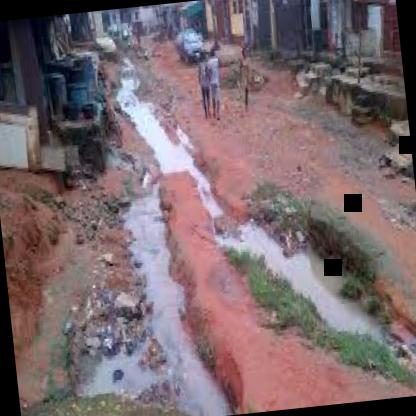car: (174, 24, 212, 66)
